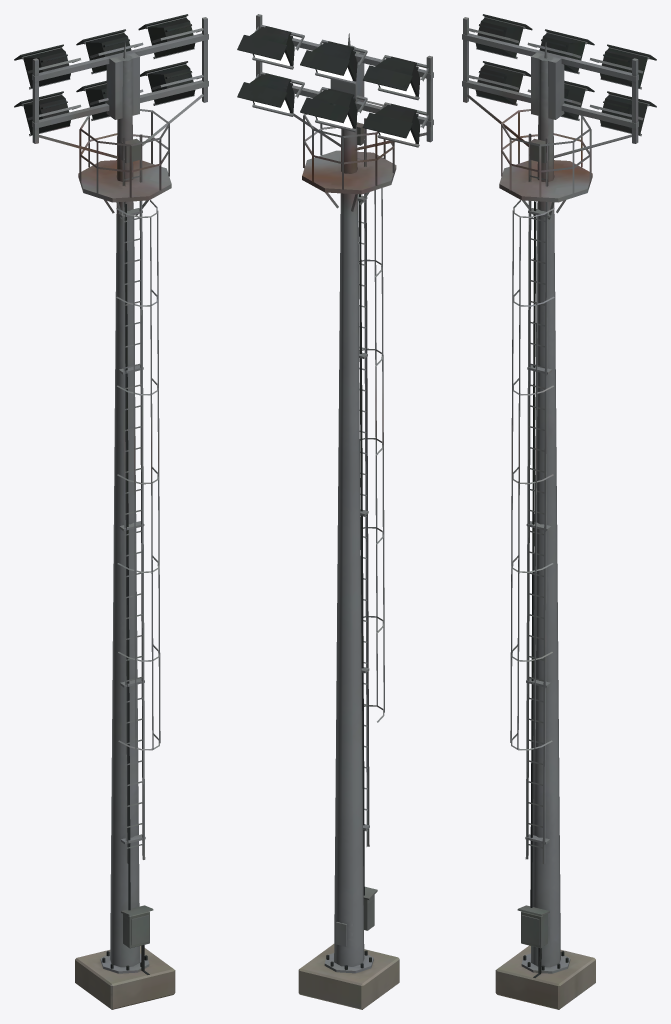
The model's file is base_floodlight_mast.glb.
The picture shows the model from 3 angles, left to right: view 1: azimuth 30°, elevation 25°; view 2: azimuth 150°, elevation 25°; view 3: azimuth 330°, elevation 25°; orthographic projection.
Visible parts, largest first — view 1: lod0; view 2: lod0, lamp_head; view 3: lod0.
Part boxes in pixels (bbox=[...]): lod0: bbox=[14, 14, 208, 1009]; lod0: bbox=[237, 14, 433, 1009]; lamp_head: bbox=[254, 52, 415, 143]; lod0: bbox=[462, 14, 656, 1009].
Size of what is drawn, in the model's own units: 3.5 by 18.2 by 1.94.
2 materials, 1 textured.
